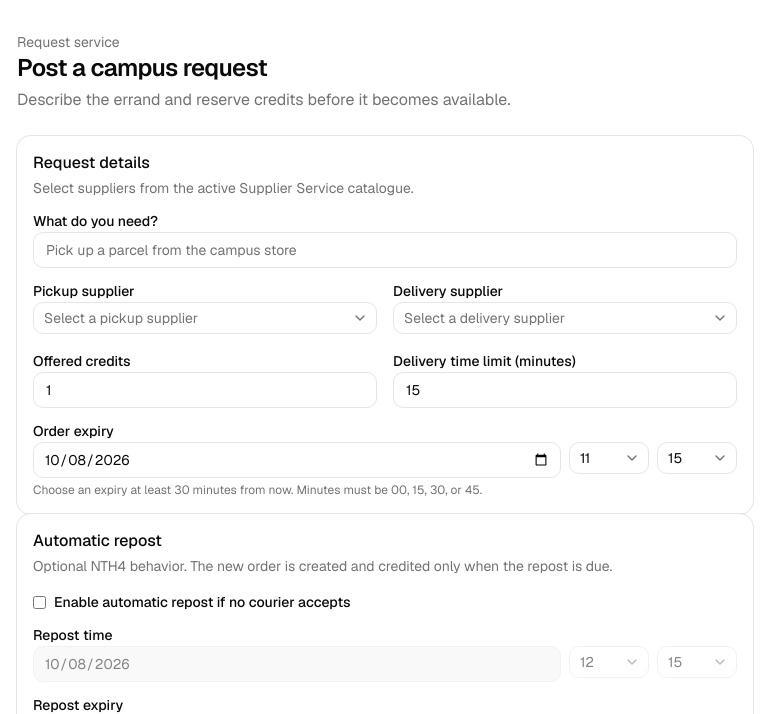
Test: request creation quarter-hour time integration › preserves server field details instead of listing unrelated validation rules
Type "Parcel" into the field labelled "What do you need?" at point(385, 250), box x1=33 y1=232 x2=737 y2=268
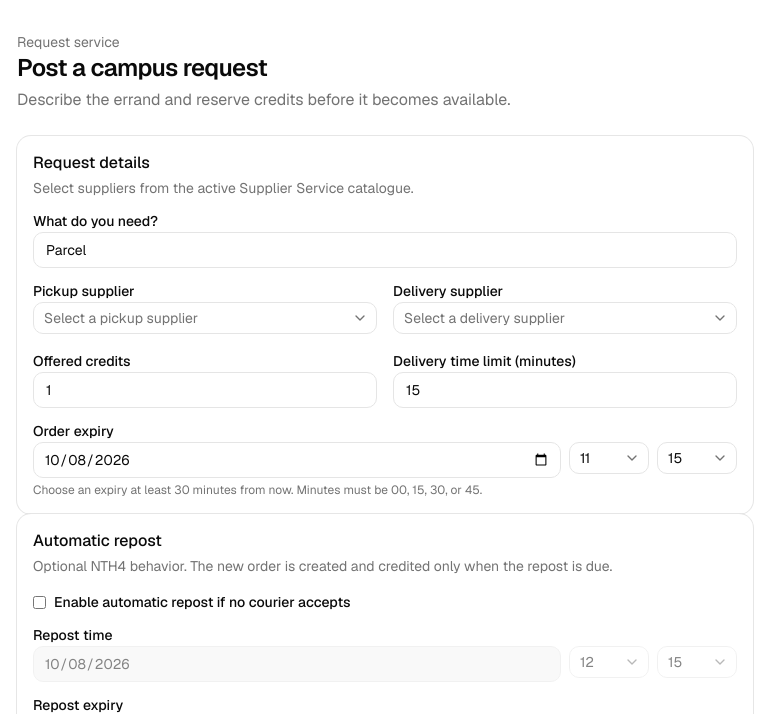
Click the dropdown labelled "Select a pickup supplier ▼" at point(121, 318), box x1=33 y1=302 x2=377 y2=334
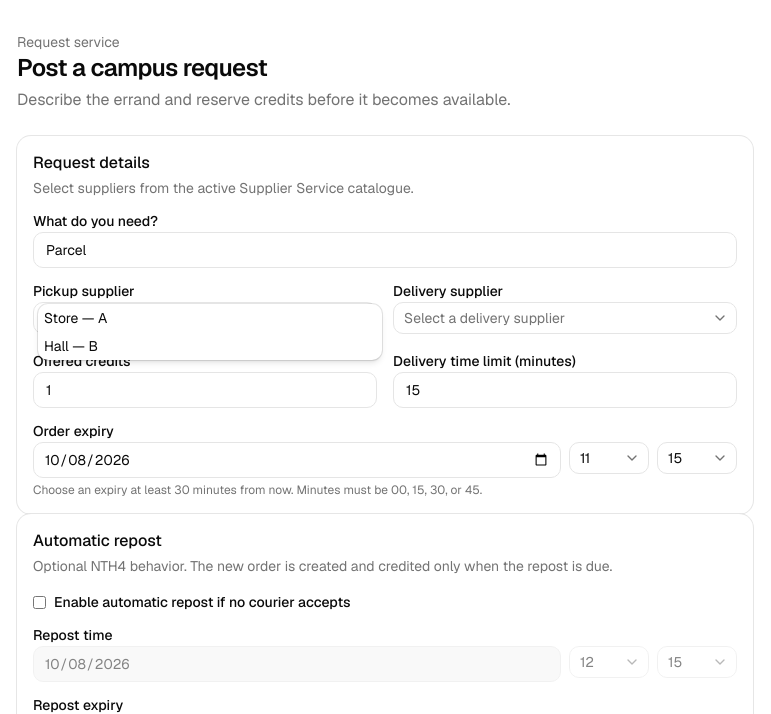
Click the option "Store — A" at point(76, 318), box x1=44 y1=309 x2=107 y2=327
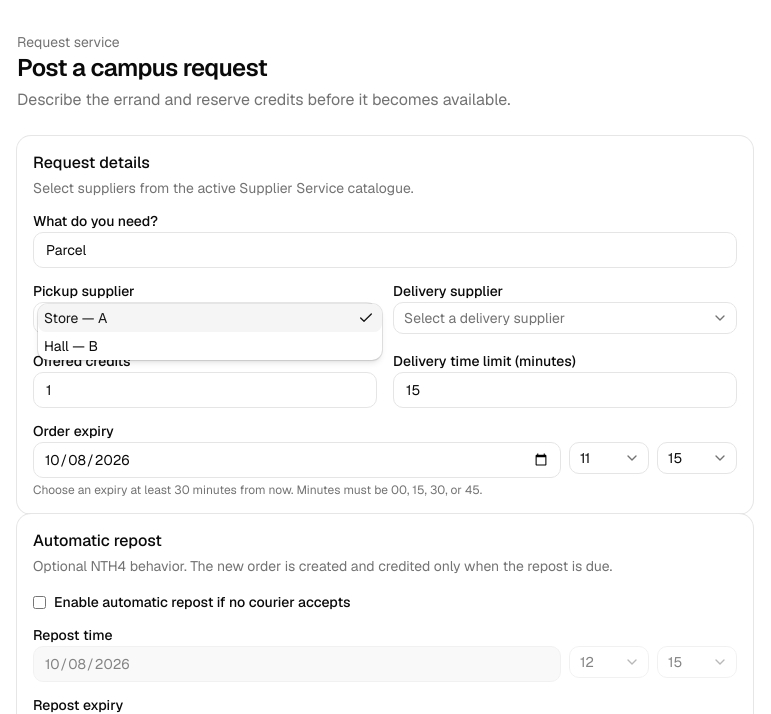
Click the dropdown labelled "Select a delivery supplier ▼" at point(565, 318), box x1=393 y1=302 x2=737 y2=334
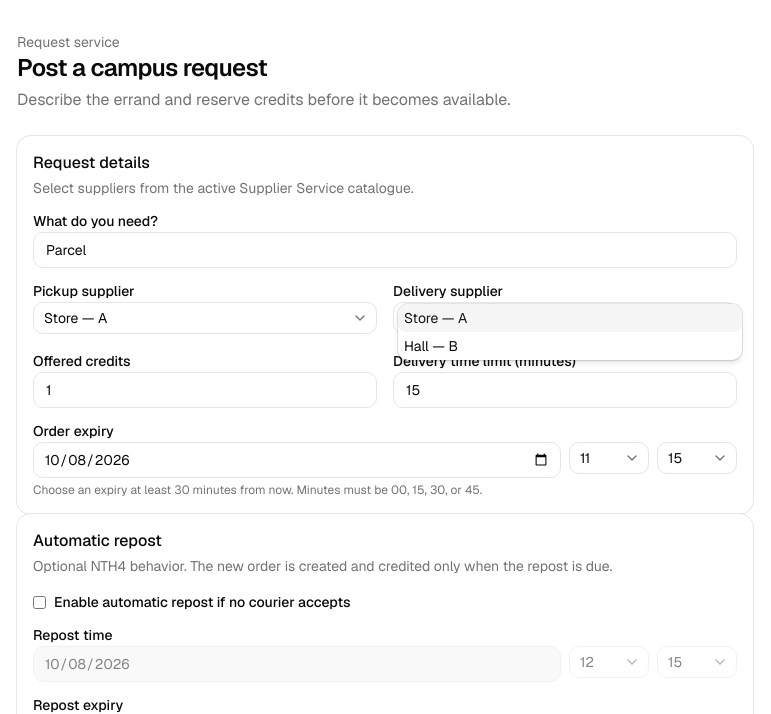
Click the option "Hall — B" at point(431, 346), box x1=404 y1=337 x2=458 y2=355
(page scrolled)
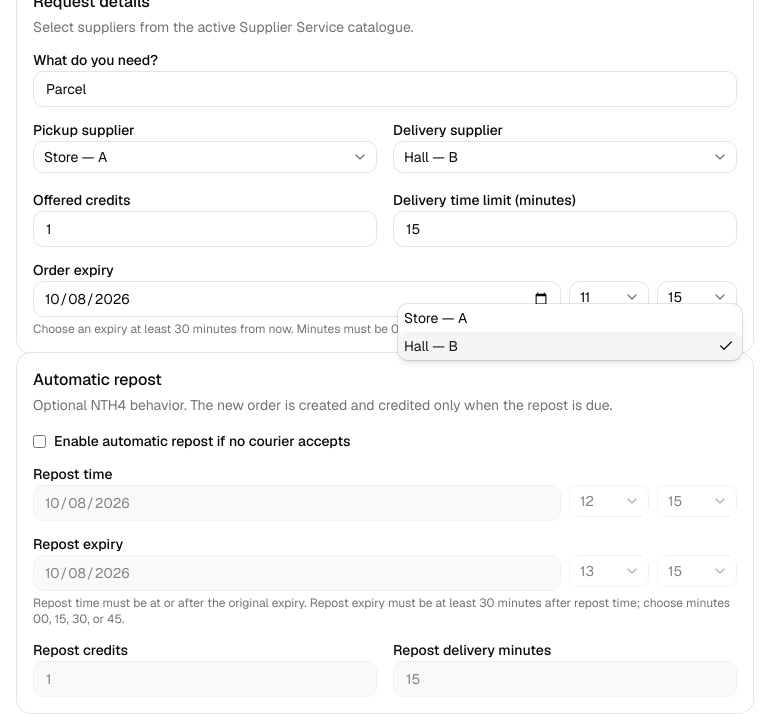
Submit the form named "Post request form"
(page scrolled)
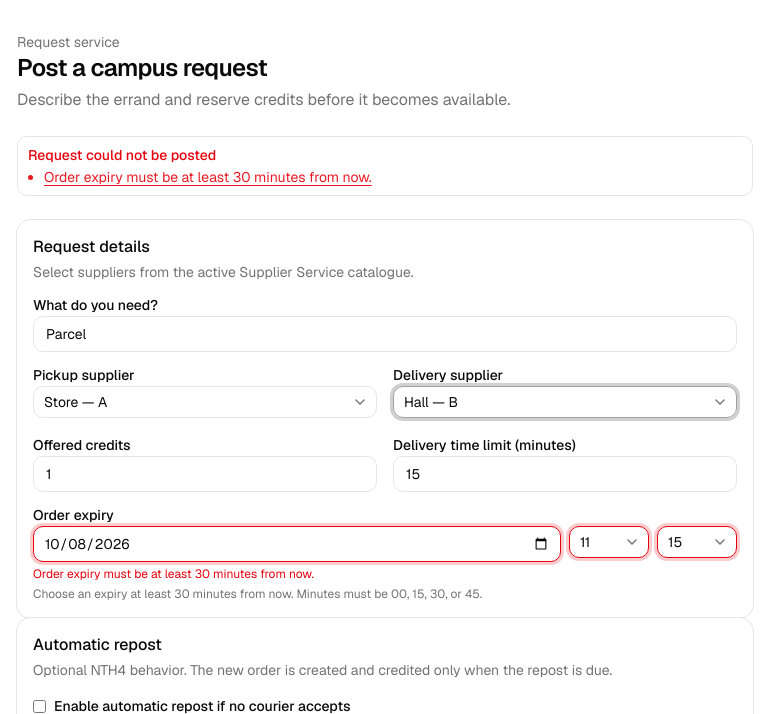
Expected: the message does not show "suppliers must differ", x1=17 y1=136 x2=753 y2=196
Now the message shows "Order expiry must be at least 30 minutes from now.", box x1=44 y1=168 x2=372 y2=186
